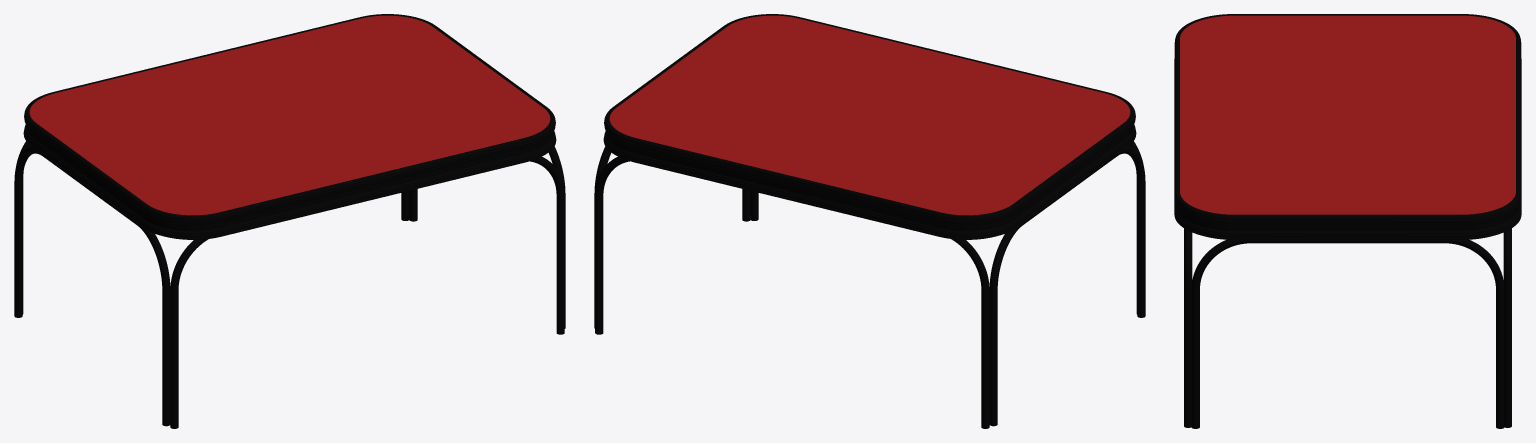
File: SM_Vintage_Dining_Table.fbx
3 renders of one model, left to right at view 1: azimuth 30°, elevation 25°; view 2: azimuth 150°, elevation 25°; view 3: azimuth 270°, elevation 25°, orthographic. The views are drawn at different scales.
Visible parts, largest first — view 1: SM_Vintage_Dining_Table_LOD0; view 2: SM_Vintage_Dining_Table_LOD0; view 3: SM_Vintage_Dining_Table_LOD0.
Boxes of the visible parts, x1,y1,x2,y2 form: SM_Vintage_Dining_Table_LOD0: [14, 14, 565, 428]; SM_Vintage_Dining_Table_LOD0: [594, 14, 1145, 428]; SM_Vintage_Dining_Table_LOD0: [1174, 14, 1521, 428].
Size of the model in its own units: 209 by 150 by 102.
